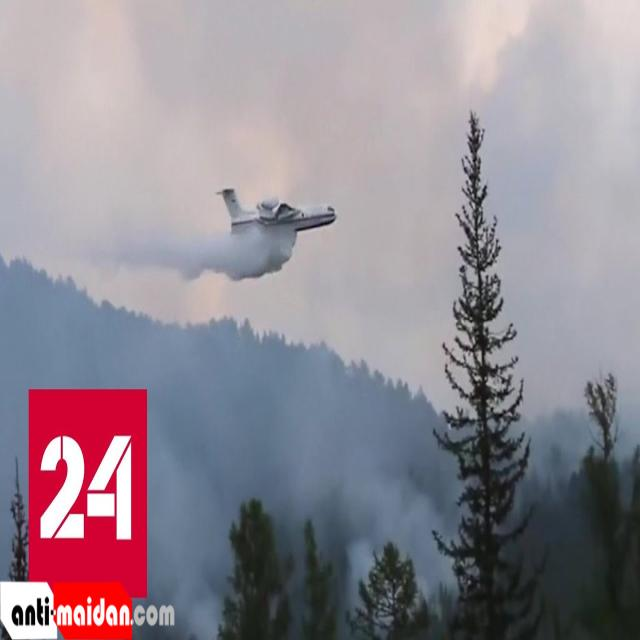MIL_Plane: (214, 188, 338, 233)
